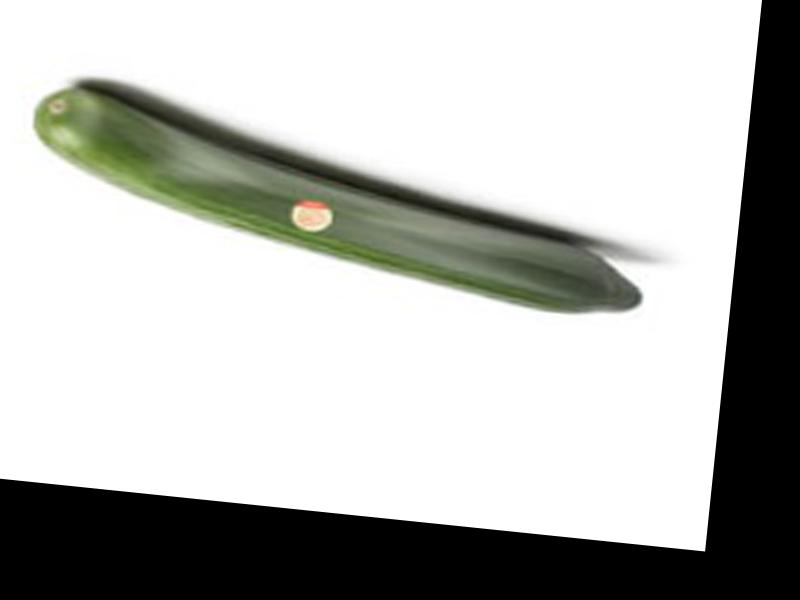Cucumber: (15, 83, 657, 321)
